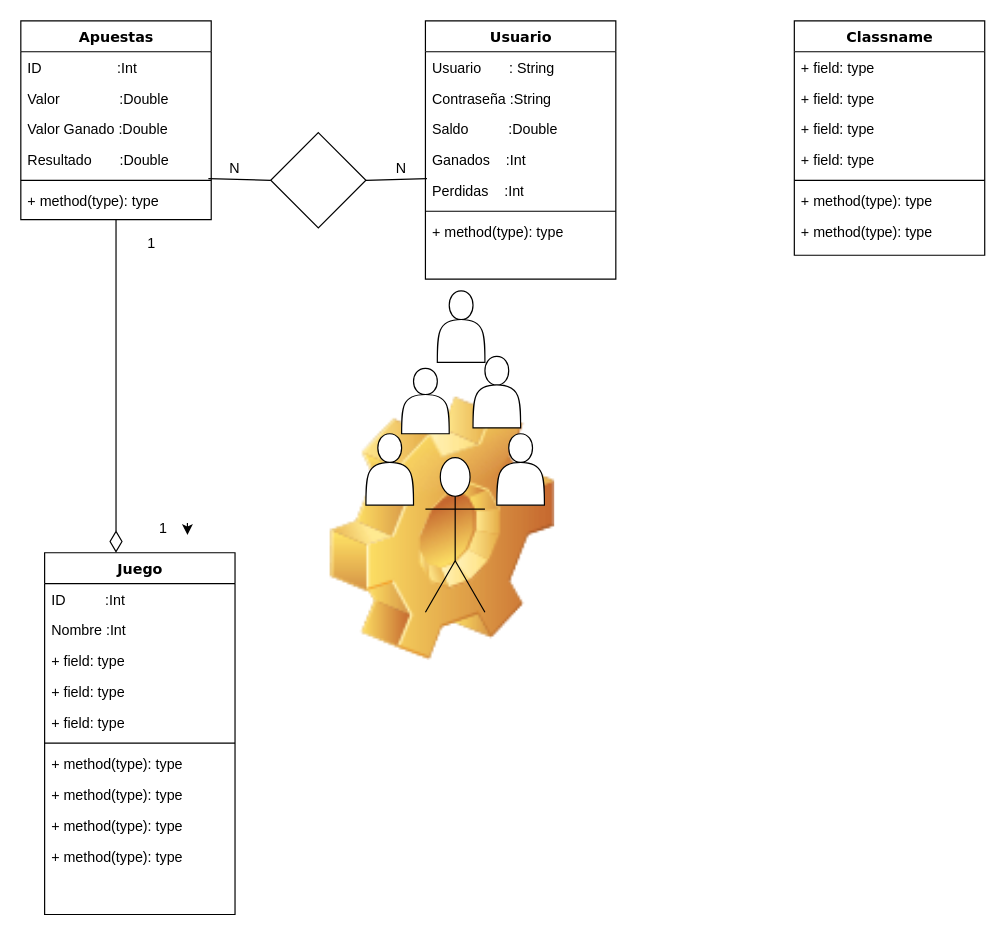
This 1006x935 diagram has some shape labels left out. Each missing label, with the centre of its shape:
"Actor" goes at point 454,534.
"Realiza" goes at point 318,179.
